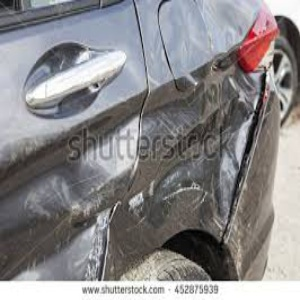bumper_scratch: (15, 173, 133, 277)
